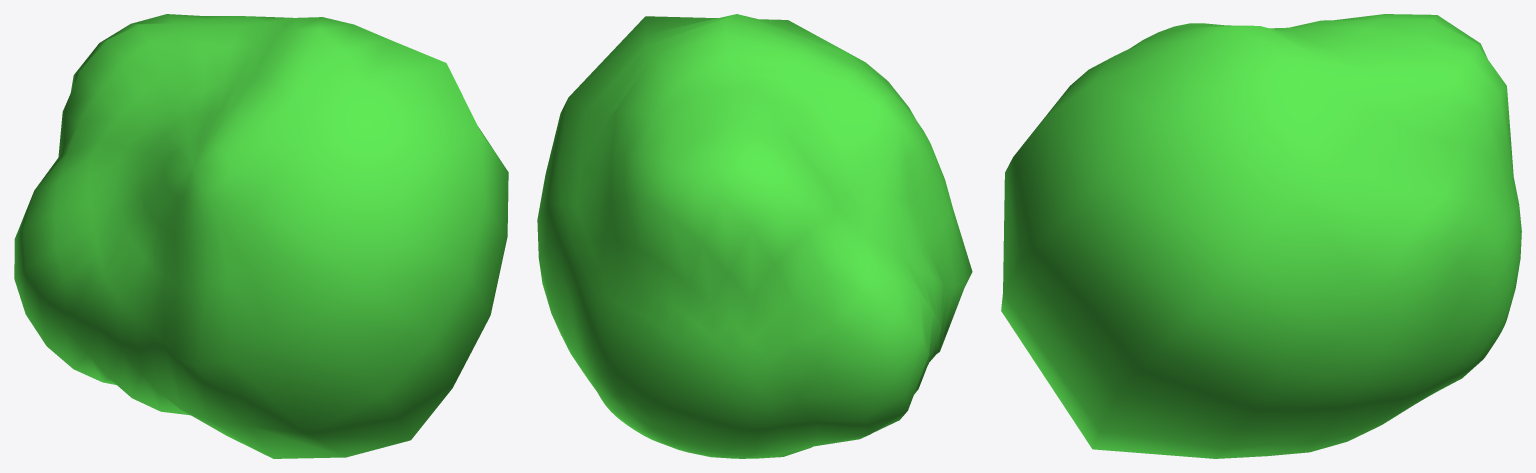
File: folhasdearvore2.fbx
3 views of the same model, side by side, from view 1: azimuth 30°, elevation 25°; view 2: azimuth 150°, elevation 25°; view 3: azimuth 270°, elevation 25° (orthographic). The views are drawn at different scales.
Parts seen in each view (by area): view 1: folhasdearvore2; view 2: folhasdearvore2; view 3: folhasdearvore2.
Part boxes in pixels (box(x1,y1,x2,y2)): folhasdearvore2: box(14, 14, 508, 458); folhasdearvore2: box(537, 14, 972, 458); folhasdearvore2: box(1001, 14, 1521, 458).
Bounding box in the file's own units: 555 × 500 × 544.
